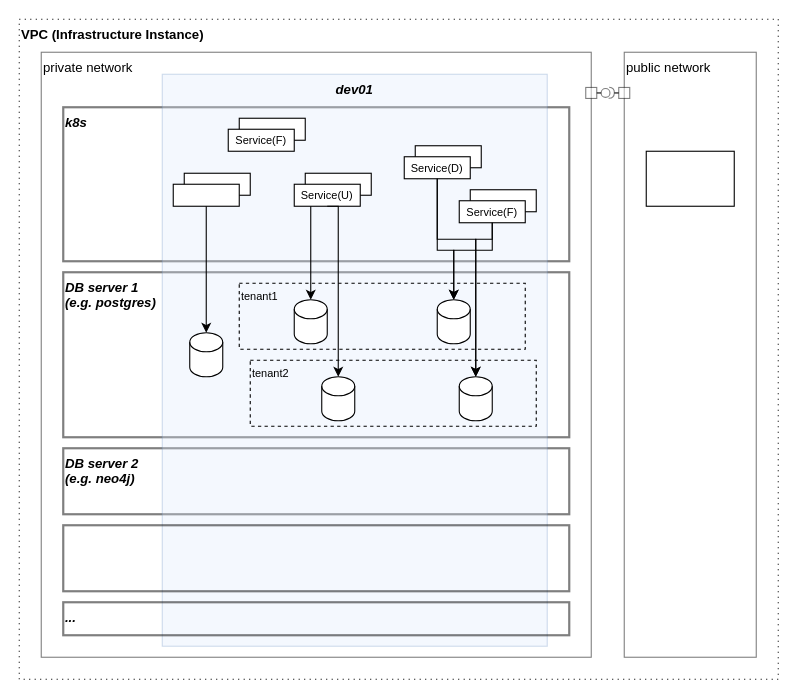
Some shapes in this 798 by 699 pixel diagram are drawn without their labels. The centre of each missing label's shape, as x and y in pixels:
"Bastion (Jump Server)" belongs at (689,178).
"Message Bus (e.g. kafka)" belongs at (316,558).
"Service(T)" belongs at (205,194).
